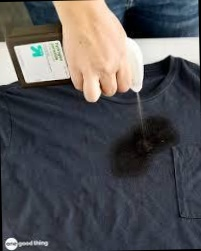oil: (110, 118, 177, 171)
